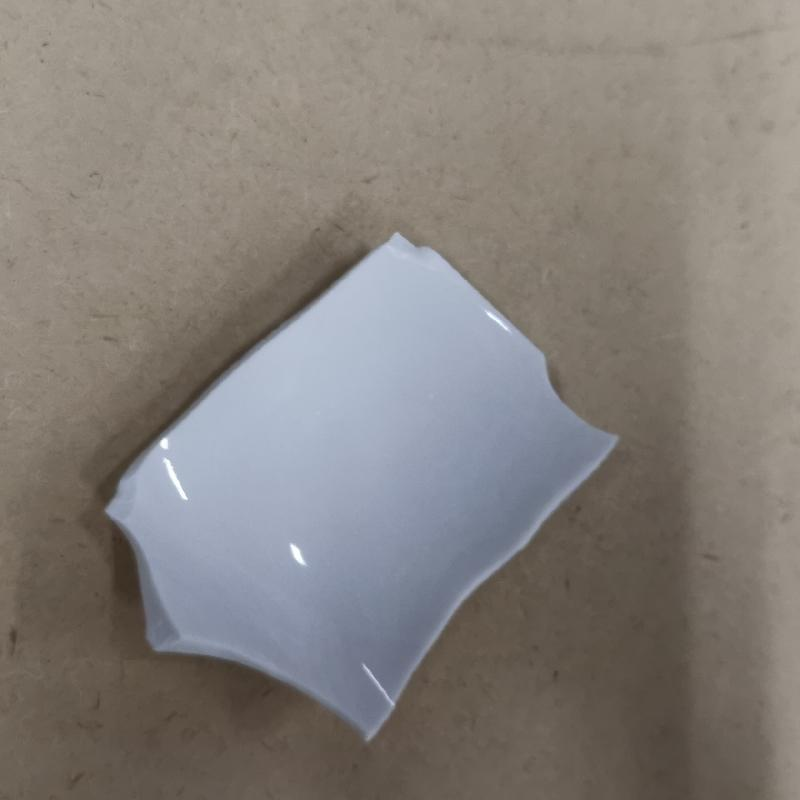ceram: (106, 238, 623, 746)
